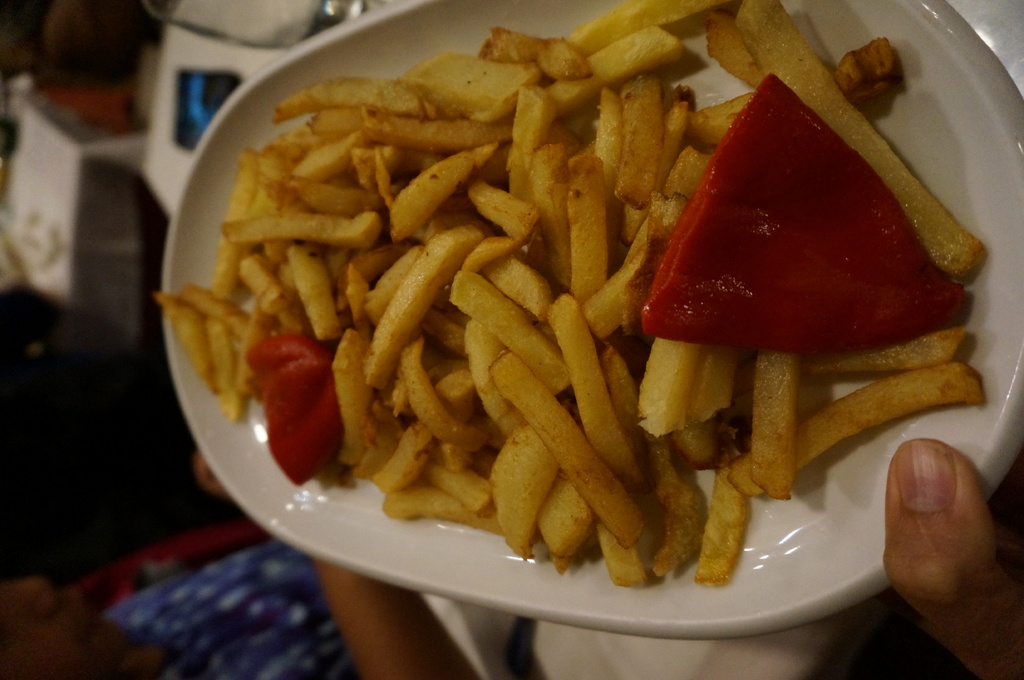French fries: (151, 0, 987, 587)
